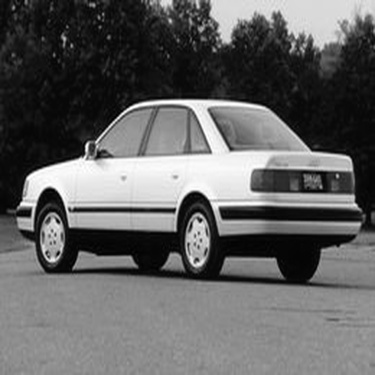car: (6, 94, 369, 290)
